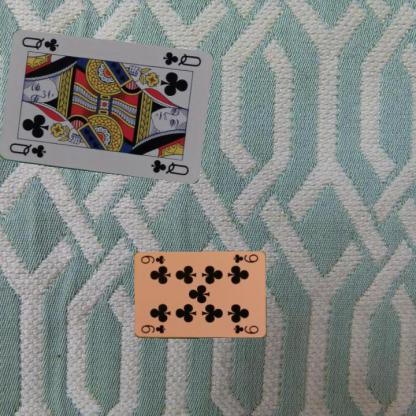9c: (230, 251, 260, 264), (138, 323, 166, 335)
Qc: (6, 140, 47, 160), (160, 49, 202, 68)
